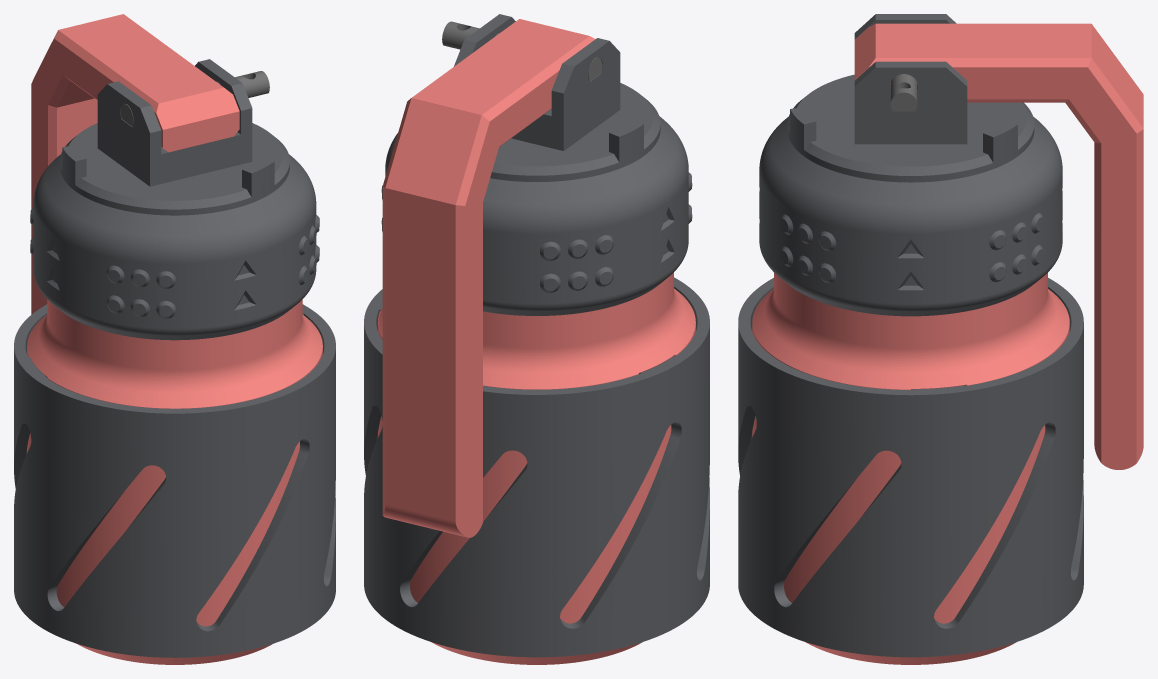
The model's file is grenade_stash_tight_pin_customizable.glb.
3 views of the same model, side by side, from view 1: azimuth 30°, elevation 25°; view 2: azimuth 150°, elevation 25°; view 3: azimuth 270°, elevation 25° (orthographic). The views are drawn at different scales.
Visible parts, largest first — view 1: Grenade_Outer_Customizable, Grenade_Lid_Customizable, Grenade_Container_Customizable, Grenade_Spoon_Customizable, Grenade_Pin_Customizable; view 2: Grenade_Outer_Customizable, Grenade_Spoon_Customizable, Grenade_Lid_Customizable, Grenade_Container_Customizable, Grenade_Pin_Customizable; view 3: Grenade_Outer_Customizable, Grenade_Lid_Customizable, Grenade_Spoon_Customizable, Grenade_Container_Customizable, Grenade_Pin_Customizable.
Boxes of the visible parts, bbox=[...] form: Grenade_Outer_Customizable: bbox=[14, 304, 335, 657]; Grenade_Lid_Customizable: bbox=[30, 59, 319, 340]; Grenade_Container_Customizable: bbox=[27, 299, 322, 664]; Grenade_Spoon_Customizable: bbox=[31, 14, 239, 314]; Grenade_Pin_Customizable: bbox=[121, 71, 269, 126]; Grenade_Outer_Customizable: bbox=[364, 277, 709, 657]; Grenade_Spoon_Customizable: bbox=[382, 19, 595, 537]; Grenade_Lid_Customizable: bbox=[381, 14, 692, 315]; Grenade_Container_Customizable: bbox=[378, 272, 695, 664]; Grenade_Pin_Customizable: bbox=[442, 21, 602, 81]; Grenade_Outer_Customizable: bbox=[738, 278, 1083, 657]; Grenade_Lid_Customizable: bbox=[759, 14, 1062, 316]; Grenade_Spoon_Customizable: bbox=[854, 23, 1143, 469]; Grenade_Container_Customizable: bbox=[752, 273, 1069, 664]; Grenade_Pin_Customizable: bbox=[890, 74, 917, 111].
Size of the model in its own units: 49 by 89 by 57.5.
